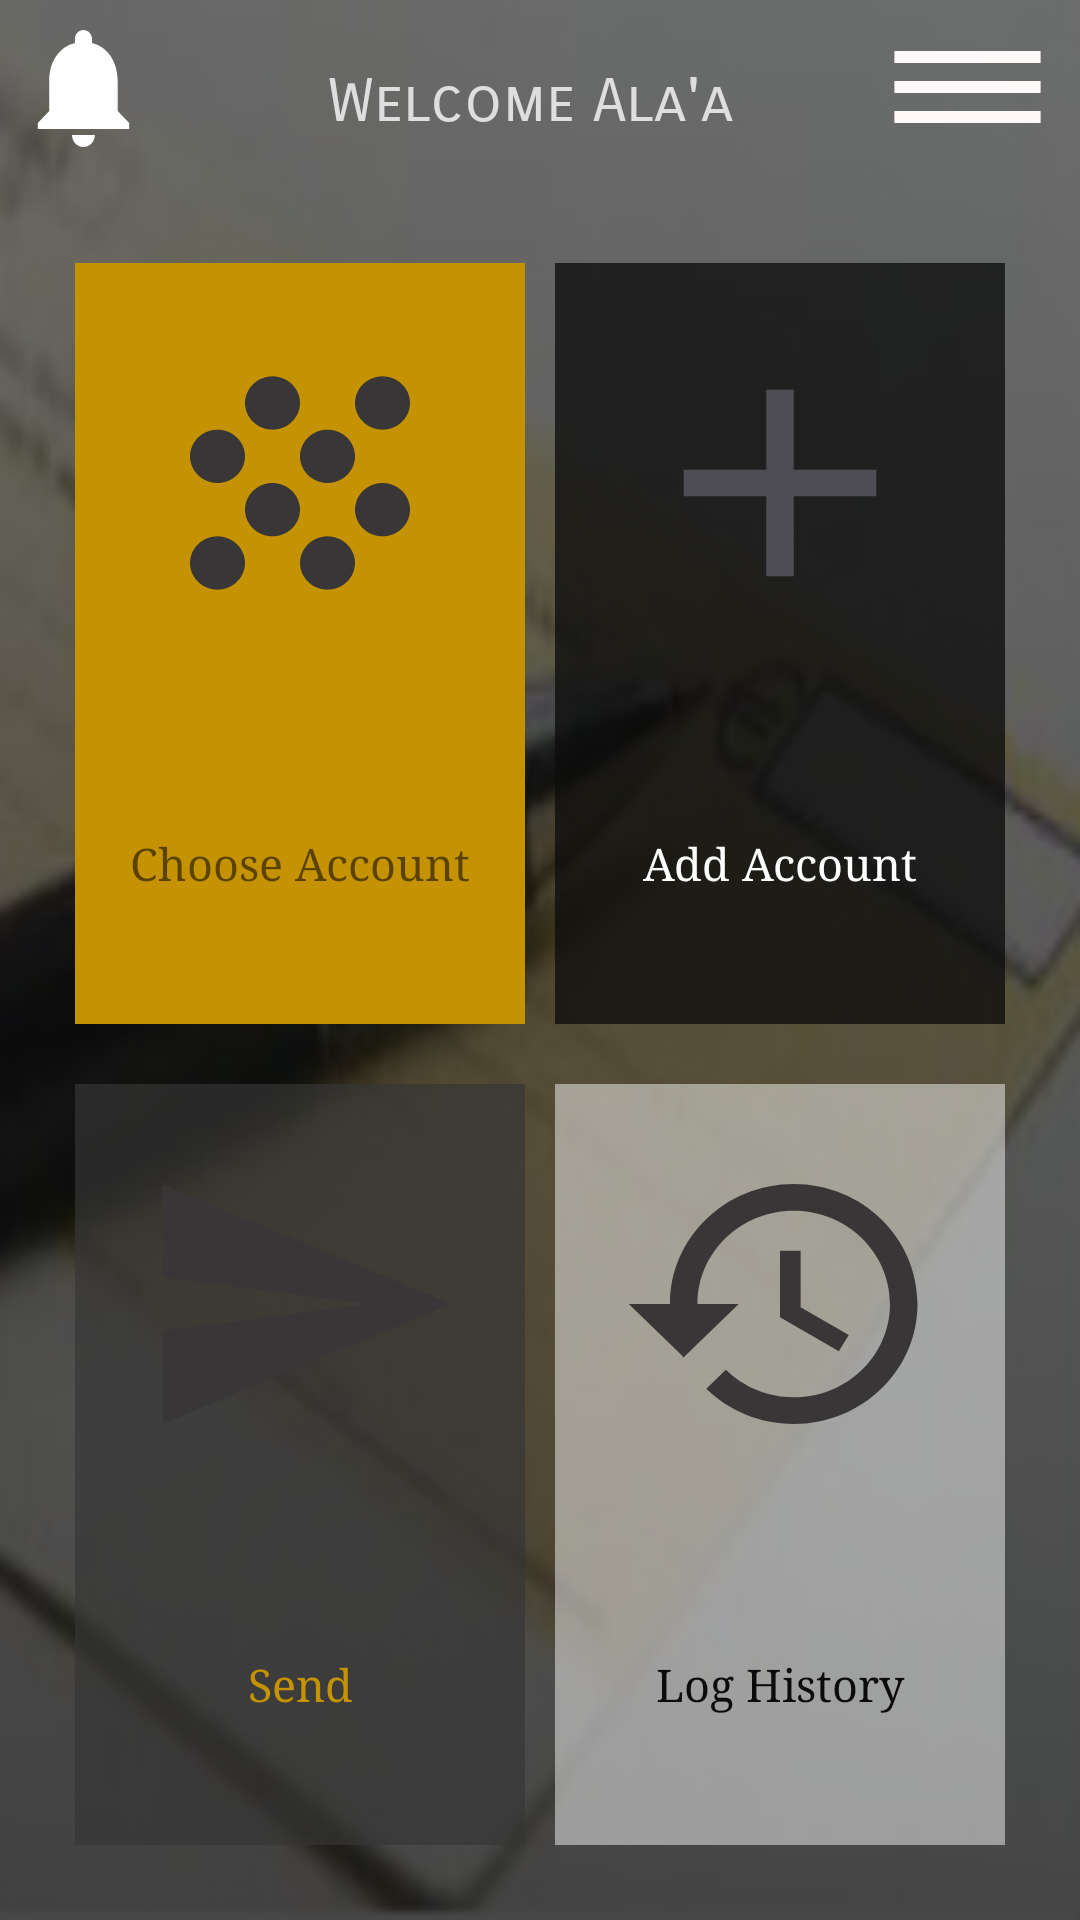

Point at icon controls on the screen. Image size 1080 x 1920, points as [x,y].
menu: [967,87]
notifications: [73,94]
